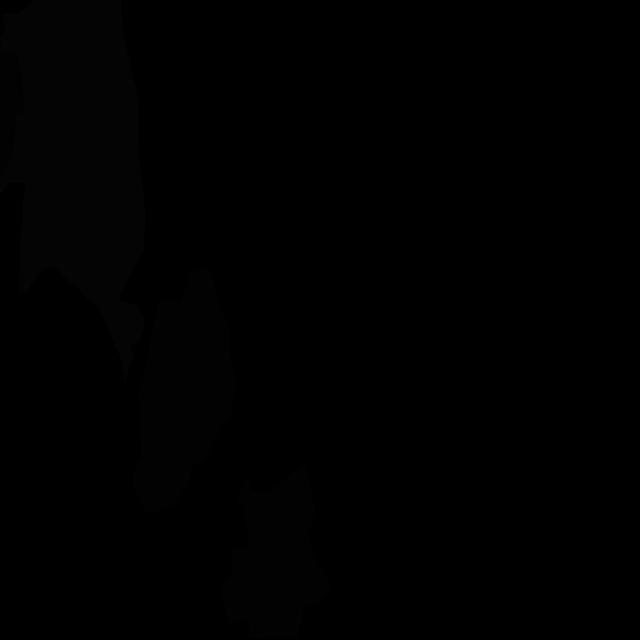cardboard: (132, 265, 236, 513), (221, 462, 331, 623), (0, 51, 23, 175), (248, 608, 303, 639)
soft_plastic: (0, 0, 146, 384)
